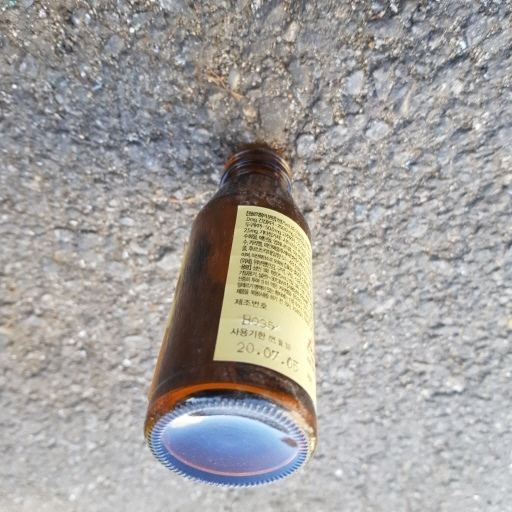Glass_3: (144, 144, 319, 487)
